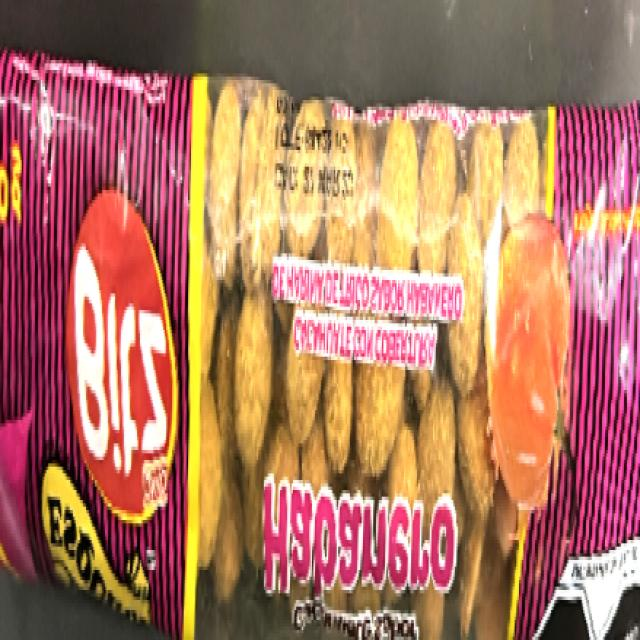bitzHabanero: (9, 78, 630, 638)
